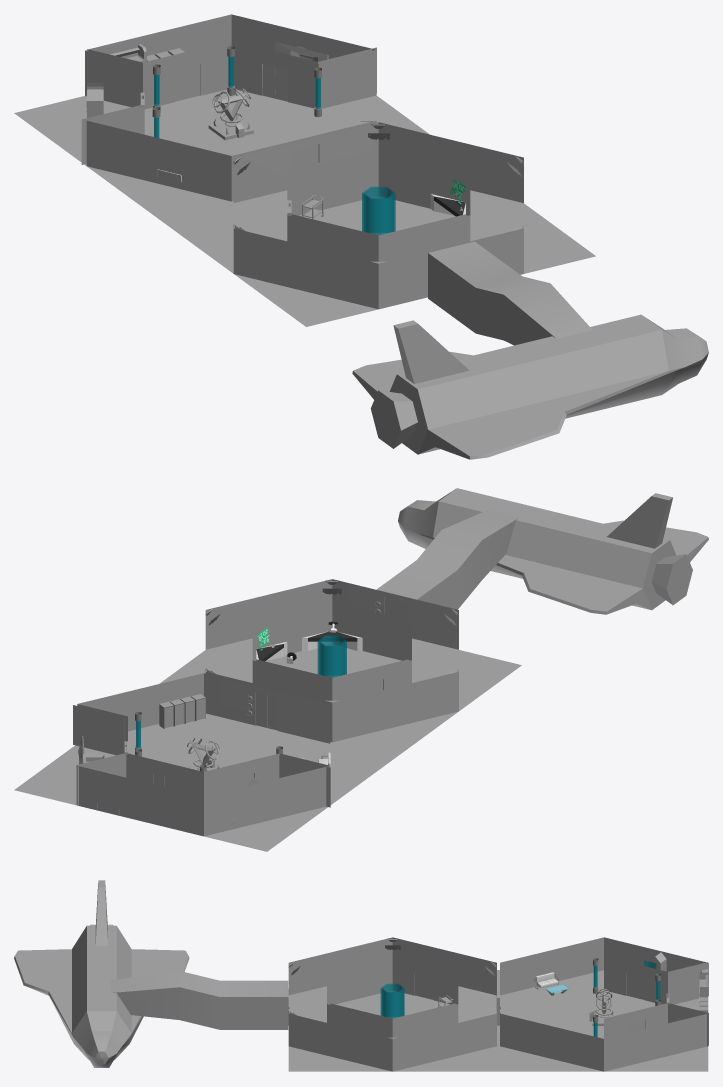
The model's file is scifi vr game.fbx.
The picture shows the model from 3 angles, top to bottom: view 1: azimuth 30°, elevation 25°; view 2: azimuth 150°, elevation 25°; view 3: azimuth 270°, elevation 25°; orthographic projection. The views are drawn at different scales.
Visible parts, largest first — view 1: Shuttle:pCylinder7, floor, wall_room_2, wall_inner_room_room2, wall_inner_rooms_room1, wall_room1, pCube3, glass_tube, pCube12; view 2: floor, Shuttle:pCylinder7, wall_room1, wall_room_2, wall_inner_room_room2, wall_inner_rooms_room1, pCube3, glass_tube, Desk, pCube12; view 3: floor, wall_room_2, Shuttle:pCylinder7, wall_room1, pCube3, wall_inner_room_room2, wall_inner_rooms_room1, glass_tube, pCube12, pCube18.
Boxes of the visible parts, <box> form: Shuttle:pCylinder7: <box>352,314,708,459</box>; floor: <box>14,89,595,326</box>; wall_room_2: <box>233,122,523,309</box>; wall_inner_room_room2: <box>287,148,470,261</box>; wall_inner_rooms_room1: <box>81,41,376,164</box>; wall_room1: <box>86,14,376,201</box>; pCube3: <box>428,241,592,345</box>; glass_tube: <box>362,186,395,235</box>; pCube12: <box>208,88,253,140</box>; floor: <box>14,638,521,851</box>; Shuttle:pCylinder7: <box>398,488,708,614</box>; wall_room1: <box>77,673,330,836</box>; wall_room_2: <box>205,579,458,742</box>; wall_inner_room_room2: <box>252,602,411,700</box>; wall_inner_rooms_room1: <box>73,704,330,807</box>; pCube3: <box>376,510,518,609</box>; glass_tube: <box>317,635,346,677</box>; Desk: <box>302,631,362,650</box>; pCube12: <box>187,737,220,770</box>; floor: <box>288,970,708,1071</box>; wall_room_2: <box>288,937,496,1071</box>; Shuttle:pCylinder7: <box>14,880,189,1067</box>; wall_room1: <box>497,937,708,1071</box>; pCube3: <box>111,971,288,1029</box>; wall_inner_room_room2: <box>327,956,458,1037</box>; wall_inner_rooms_room1: <box>604,957,708,1046</box>; glass_tube: <box>380,983,404,1018</box>; pCube12: <box>592,988,615,1025</box>; pCube18: <box>639,951,666,971</box>.
Size of the model in its own units: 23.66 by 8.1 by 57.81.
